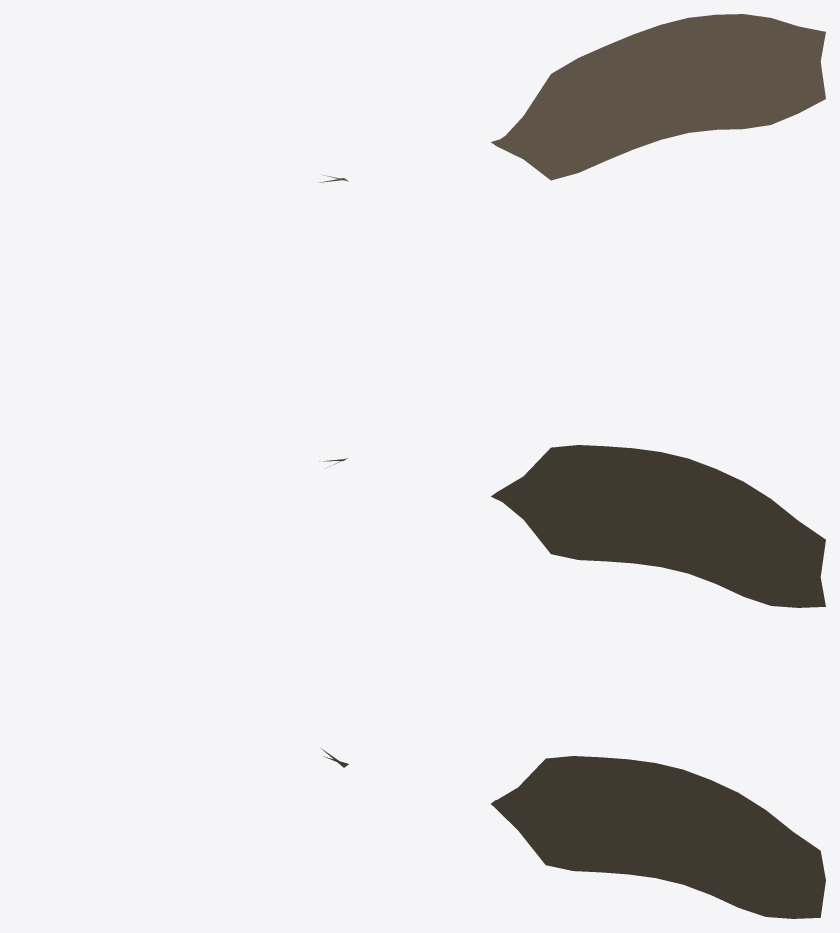
The model's file is thick.glb.
3 views of the same model, one above another, from view 1: azimuth 30°, elevation 25°; view 2: azimuth 150°, elevation 25°; view 3: azimuth 330°, elevation 25° (orthographic).
Visible parts, largest first — view 1: eyebrows_thick; view 2: eyebrows_thick; view 3: eyebrows_thick.
Part boxes in pixels (x1,y1,x2,y2): eyebrows_thick: (318,14,825,182); eyebrows_thick: (319,445,825,607); eyebrows_thick: (321,748,825,918).
Size of the model in its own units: 0.88 by 0.1347 by 0.01.
